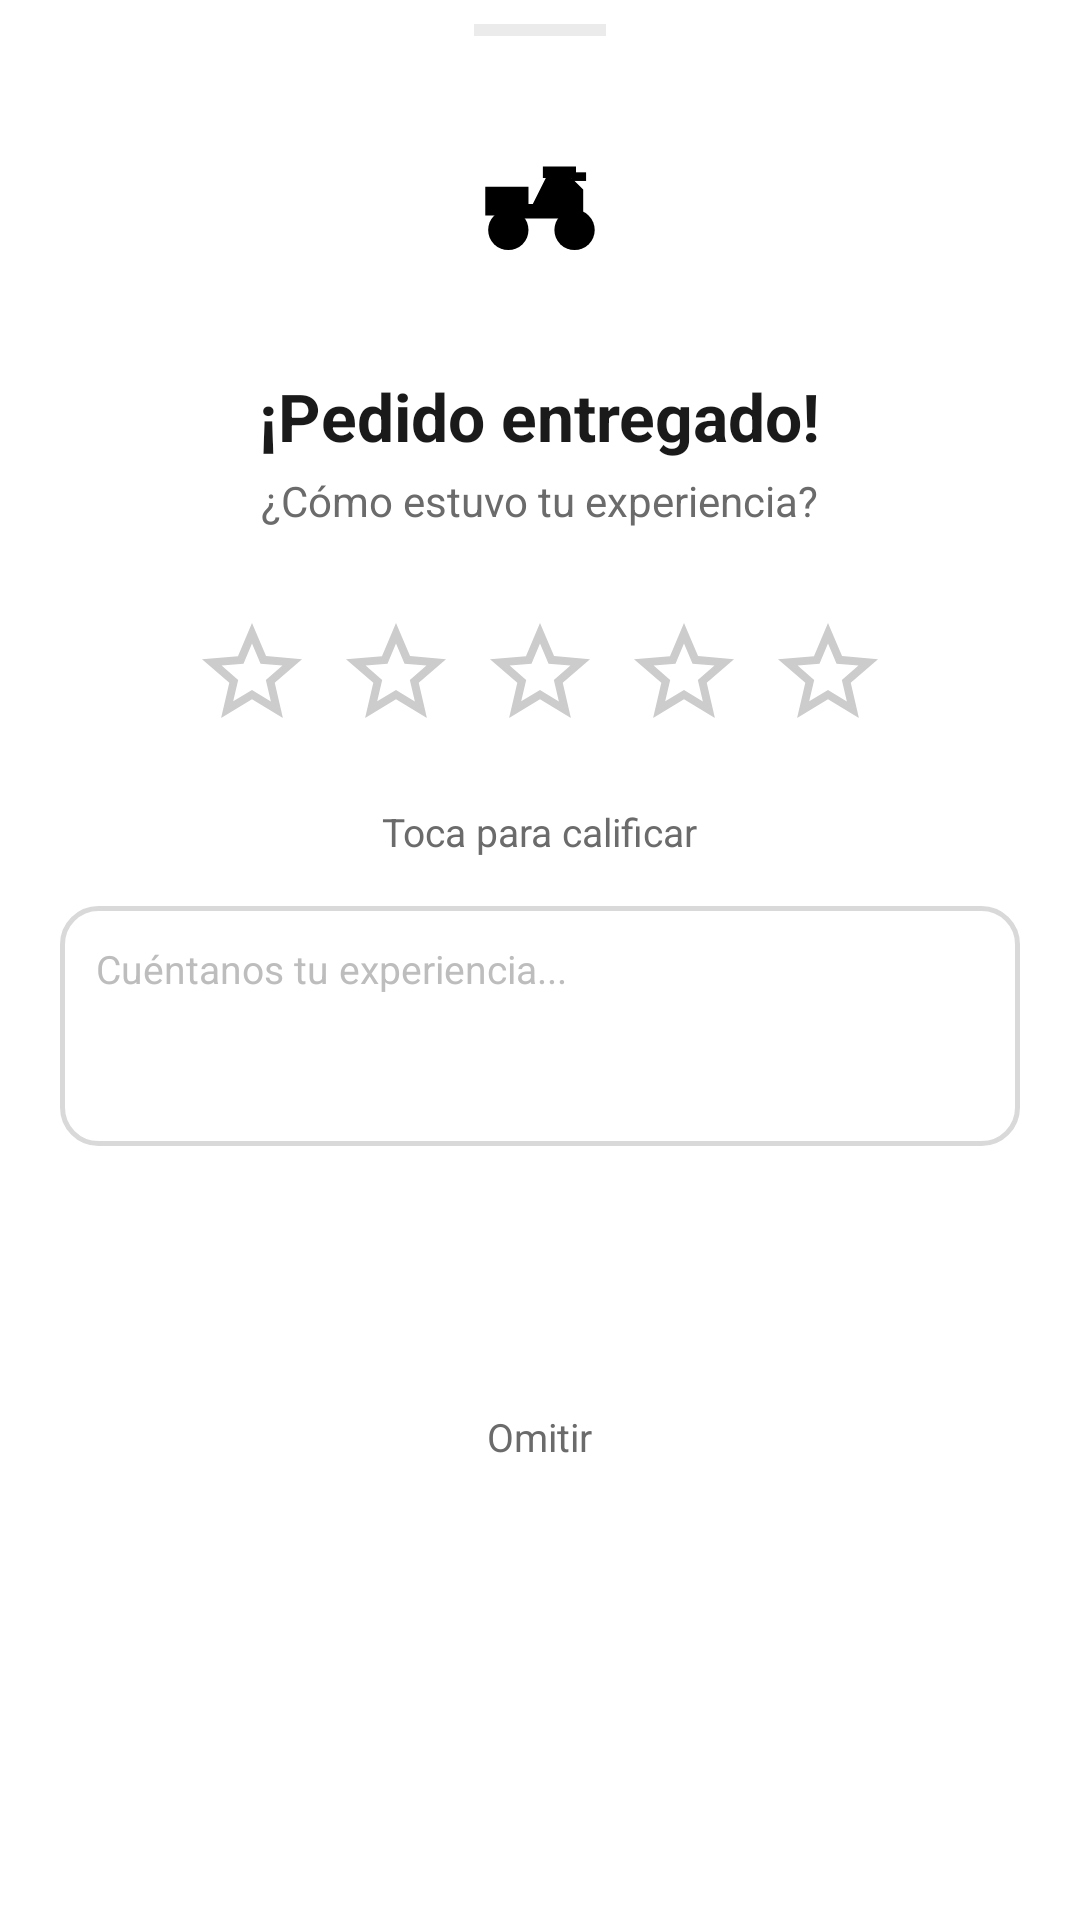

Icons on this 1080px×1920px Android screen, each with its box as [left=x1, top=y1, right=x2, bottom=y2]:
1 estrella: [left=203, top=624, right=301, bottom=718]
2 estrellas: [left=347, top=624, right=445, bottom=718]
3 estrellas: [left=491, top=624, right=589, bottom=718]
4 estrellas: [left=635, top=624, right=733, bottom=718]
5 estrellas: [left=779, top=624, right=877, bottom=718]
